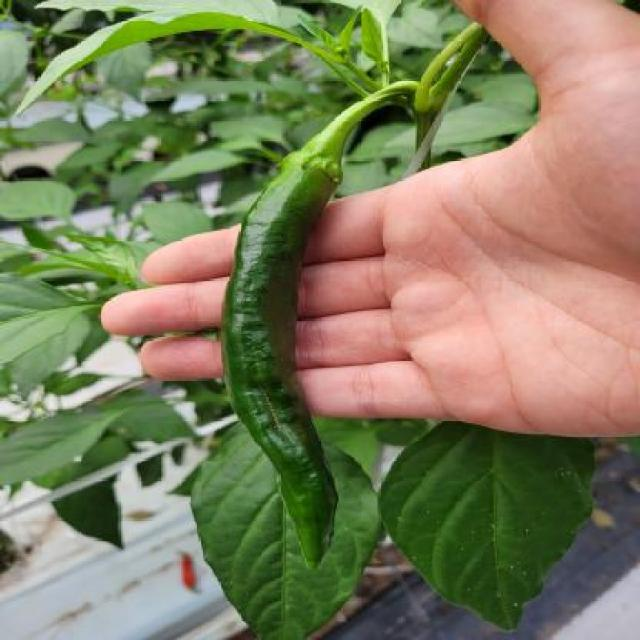green chilli: (218, 160, 338, 571)
